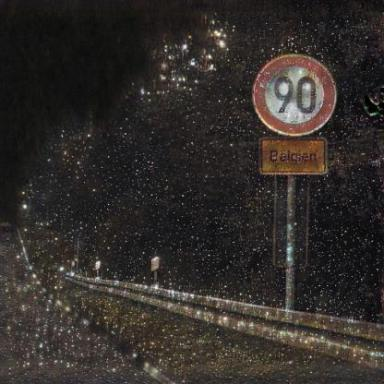Speed_limit_90: (258, 59, 332, 132)
